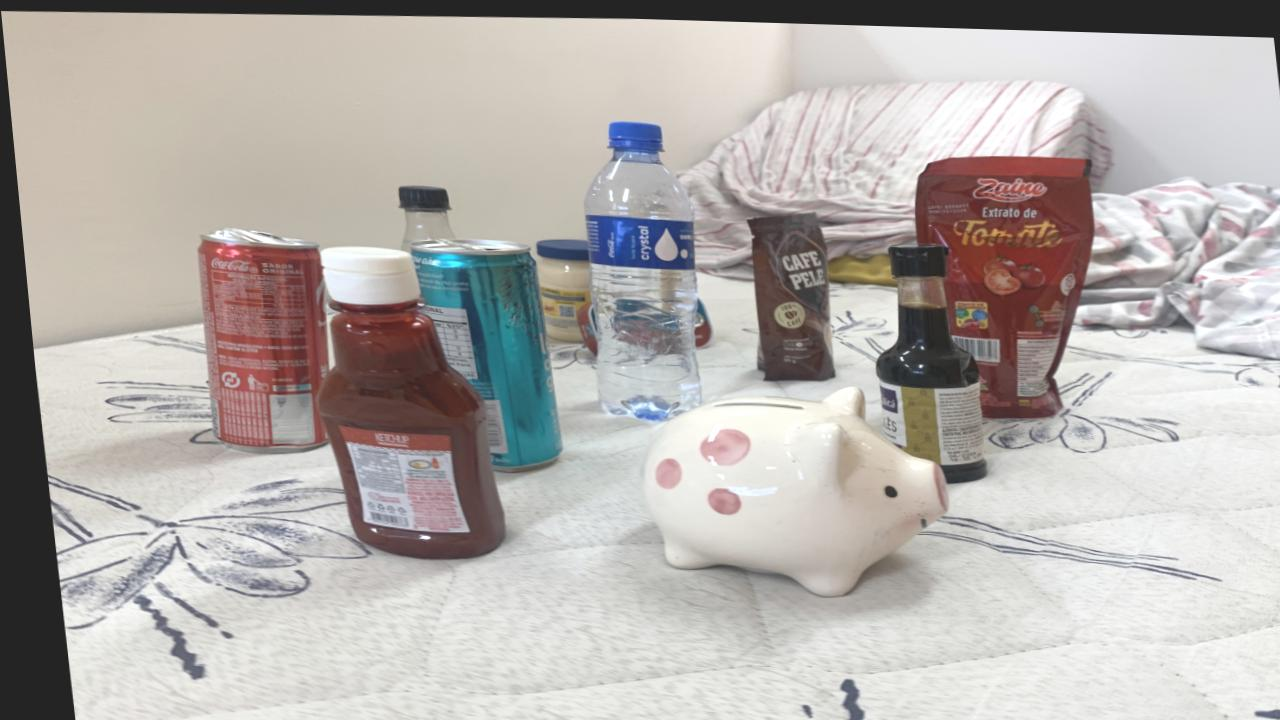Coffee-Pantry_Items: (745, 209, 829, 376)
Coke-Drinks: (192, 228, 322, 451)
English_Sauce-Pantry_Items: (868, 238, 978, 478), (935, 452, 978, 476)
Ketchup-Pantry_Items: (310, 245, 495, 557)
Mayonnaise-Pantry_Items: (531, 236, 586, 339)
Pig_Safe-Miscellaneous: (633, 383, 939, 591)
Soda-Drinks: (394, 184, 450, 250)
Tea-Drinks: (406, 237, 554, 468)
Tomato_Sauce-Pantry_Items: (911, 150, 1090, 413)
Tuna_Can-Pantry_Items: (569, 299, 593, 352), (687, 294, 708, 343)
Water_Bottle-Drinks: (581, 120, 694, 418)
